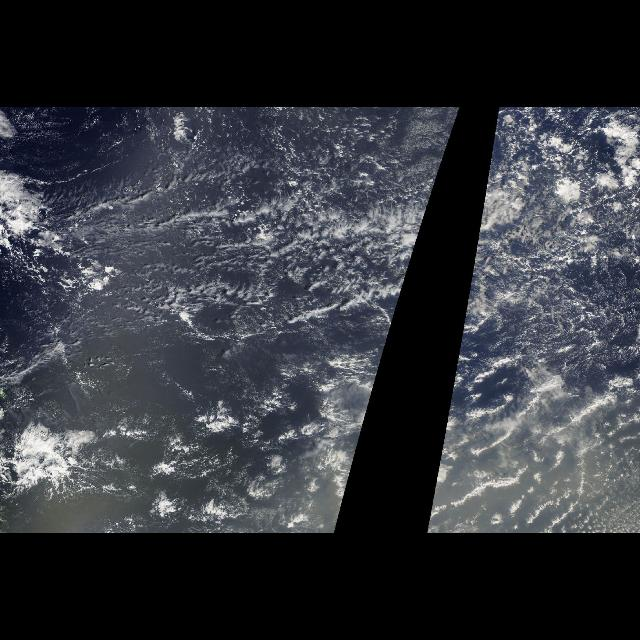Flower: (20, 388, 336, 526), (504, 109, 636, 317)
Gravel: (174, 202, 390, 324)
Sugar: (52, 144, 340, 346)
